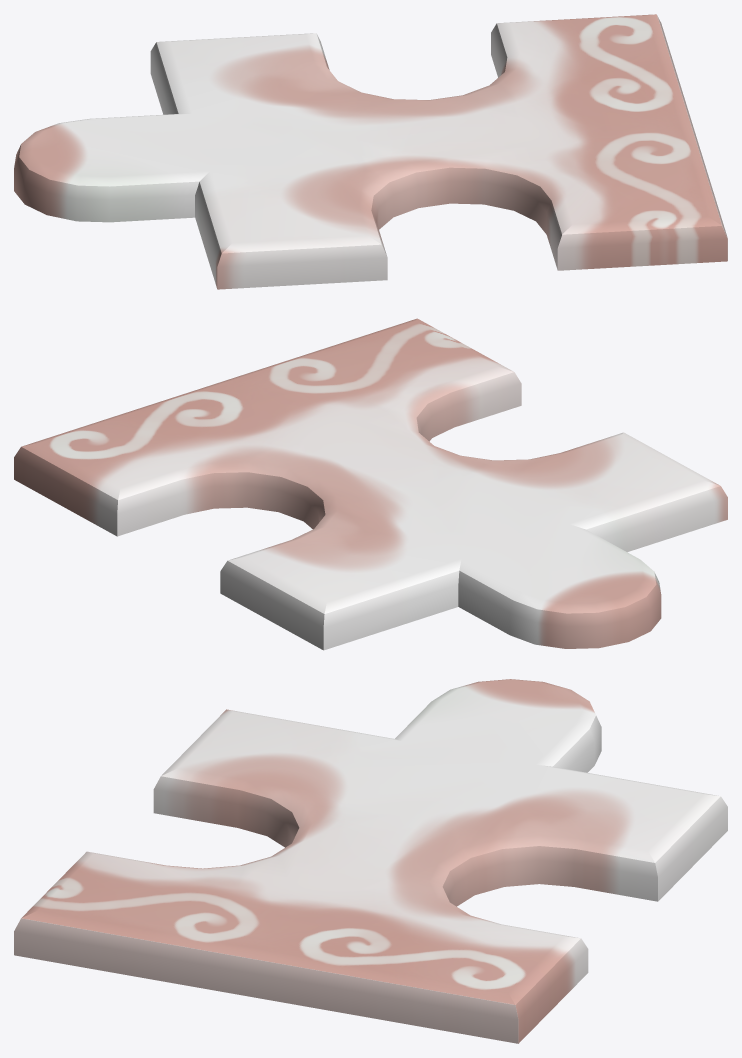
Rendered from PuzzlePiece2.fbx.
The picture shows the model from 3 angles, top to bottom: view 1: azimuth 30°, elevation 25°; view 2: azimuth 150°, elevation 25°; view 3: azimuth 270°, elevation 25°; orthographic projection. The views are drawn at different scales.
Visible parts, largest first — view 1: polySurface2; view 2: polySurface2; view 3: polySurface2.
Part boxes in pixels (x1,y1,x2,y2): polySurface2: (14, 14, 727, 289); polySurface2: (14, 318, 727, 650); polySurface2: (14, 679, 727, 1043).
Size of the model in its own units: 1.44 by 0.0821 by 1.31.
Materials: 2 (1 with a texture image).
